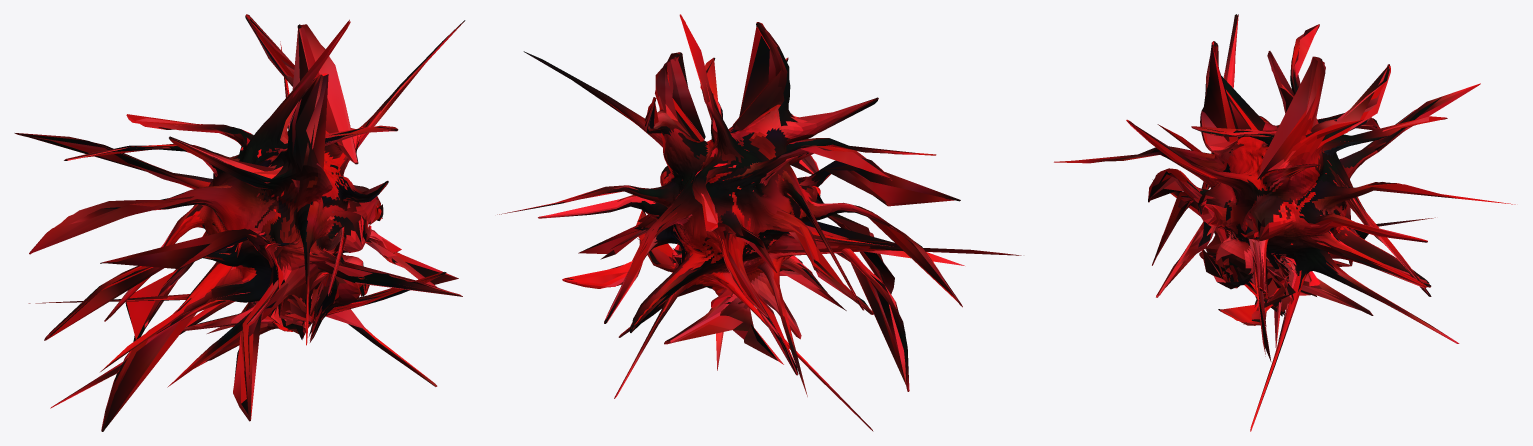
Rendered from Drac Arici Zburător.fbx.
3 views of the same model, side by side, from view 1: azimuth 30°, elevation 25°; view 2: azimuth 150°, elevation 25°; view 3: azimuth 270°, elevation 25° (orthographic). The views are drawn at different scales.
Parts seen in each view (by area): view 1: Quad Sphere; view 2: Quad Sphere; view 3: Quad Sphere.
Boxes of the visible parts, box(x1,y1,x2,y2) form: Quad Sphere: box(14, 14, 465, 431); Quad Sphere: box(497, 14, 1021, 431); Quad Sphere: box(1054, 14, 1515, 431).
Bounding box in the file's own units: 929 × 737 × 895.
1 material, 1 textured.
